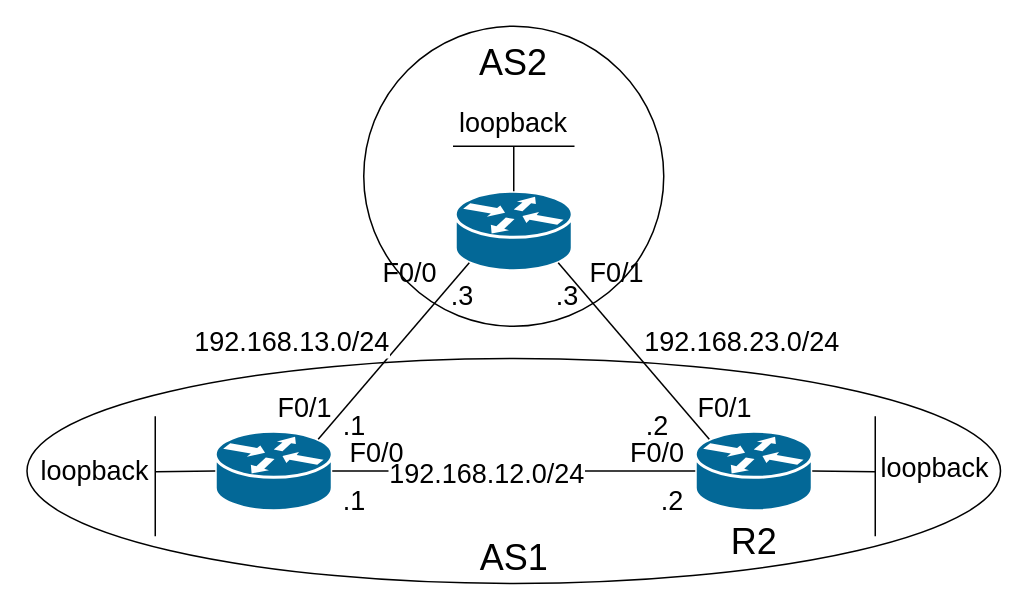
This 1026x611 diagram has some shape labels left out. The shapes that lost their labels are listed below. From the top down, each one's centre as x and y in pixels, then its label:
(x=513, y=230): R3
(x=273, y=470): R1
